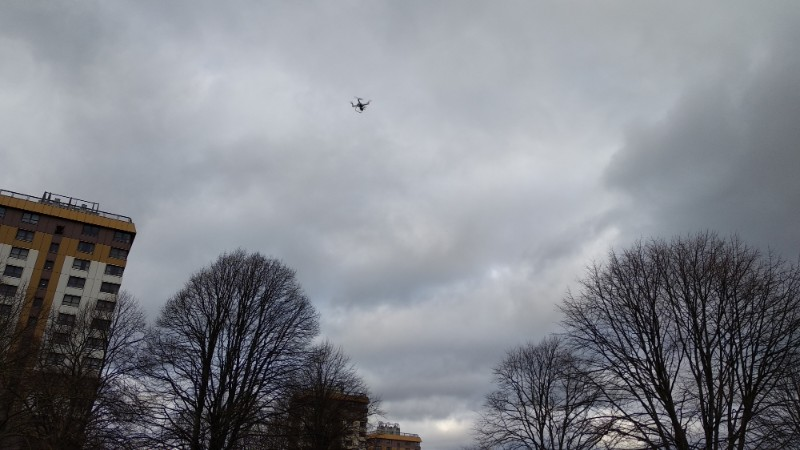drone: (349, 97, 372, 113)
